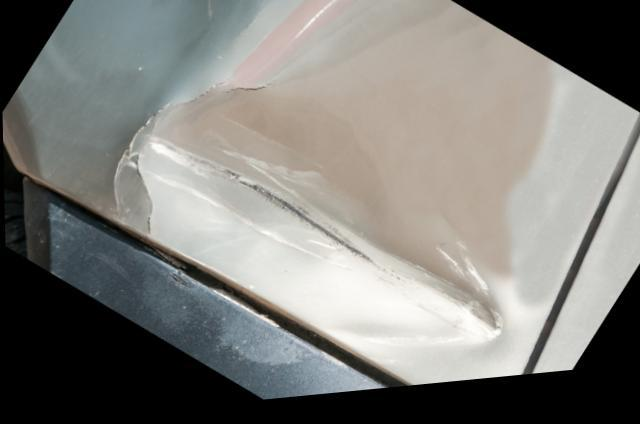dent: (107, 90, 501, 356)
